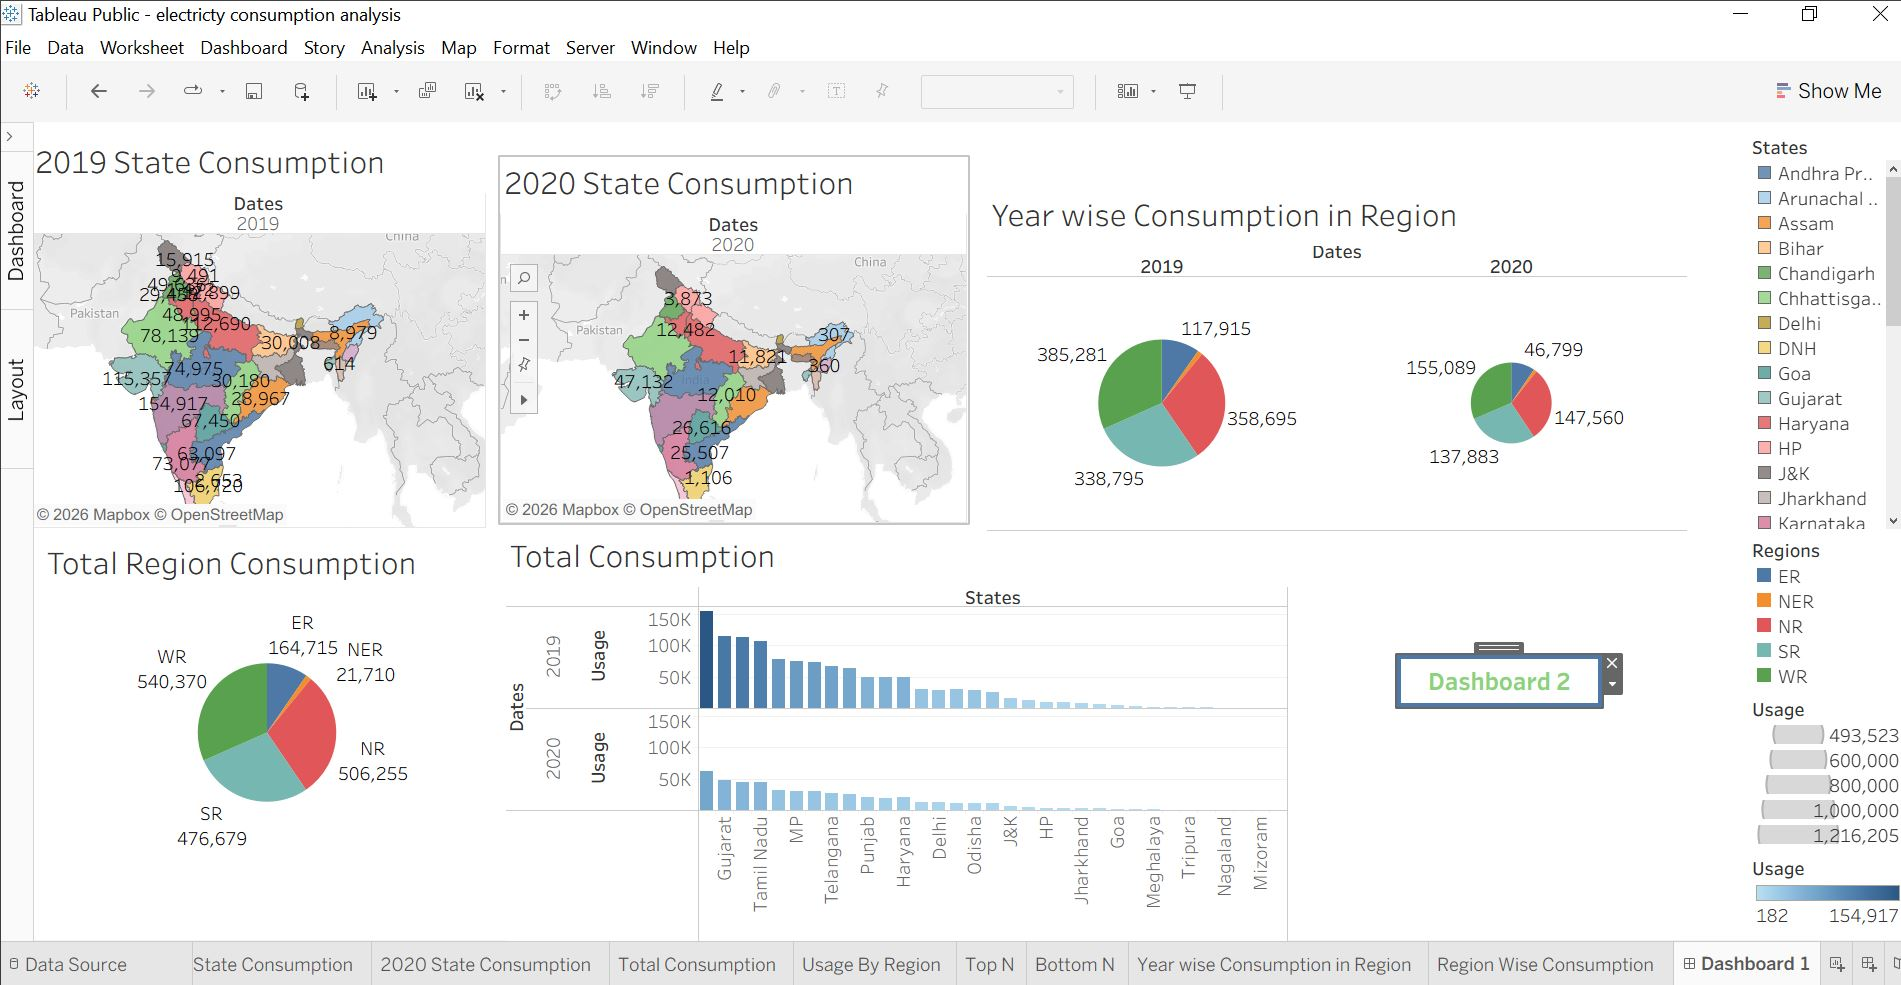

The page's visual inventory and layout, read from the dashboard file:
{"tool":"tableau","page":{"name":"Dashboard 1","canvas":[1000,1000],"units":"permille","ordinal":0},"visuals":[{"type":"legend","title":"2019 State Consumption","param":"[federated.0nzlmpl1kv5g8j0zk3tzo1f6s7qc].[none:States:nk]","box":[910.7,9.8,85,492.7]},{"type":"worksheet","title":"2020 State Consumption","mark":"Multipolygon","cols":["Dates"],"box":[247.7,42.8,248.3,447.4]},{"type":"worksheet","title":"Year wise Consumption in Region","mark":"Pie","cols":["Dates"],"box":[506.6,81.9,371.9,418.1]},{"type":"legend","title":"Year wise Consumption in Region","param":"[federated.0nzlmpl1kv5g8j0zk3tzo1f6s7qc].[none:Regions:nk]","box":[910.7,502.4,85,194.4]},{"type":"worksheet","title":"Region Wise Consumption","mark":"Pie","box":[4.6,507.3,238.1,408.3]},{"type":"dashboard-object","box":[724.4,651.6,108.9,63.6]},{"type":"legend","title":"Year wise Consumption in Region","param":"[federated.0nzlmpl1kv5g8j0zk3tzo1f6s7qc].[sum:Usage:qk]","box":[910.7,696.8,85,194.4]},{"type":"legend","title":"Total Consumption","param":"[federated.0nzlmpl1kv5g8j0zk3tzo1f6s7qc].[sum:Usage:qk]","box":[910.7,891.2,85,99]}]}

Visuals, with their boxes on the dashboard's canvas, which has no fixed pixel size, in thousandths of its width and height (x1, y1, x2, y2). These are canvas units, not pixel positions in the 1901x985 screenshot, which may show the page scaled, cropped or inside an application window:
"2019 State Consumption" legend: x1=911 y1=10 x2=996 y2=502
"2020 State Consumption" worksheet (Multipolygon marks): x1=248 y1=43 x2=496 y2=490
"Year wise Consumption in Region" worksheet (Pie marks): x1=507 y1=82 x2=878 y2=500
"Year wise Consumption in Region" legend: x1=911 y1=502 x2=996 y2=697
"Region Wise Consumption" worksheet (Pie marks): x1=5 y1=507 x2=243 y2=916
dashboard-object: x1=724 y1=652 x2=833 y2=715
"Year wise Consumption in Region" legend: x1=911 y1=697 x2=996 y2=891
"Total Consumption" legend: x1=911 y1=891 x2=996 y2=990
